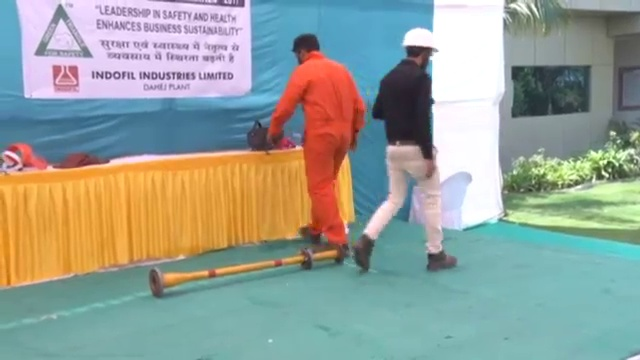helmet: (399, 25, 440, 54)
helmet_off: (292, 30, 320, 64)
helmet_on: (399, 25, 443, 68)
person: (358, 25, 457, 275), (270, 30, 362, 254)
